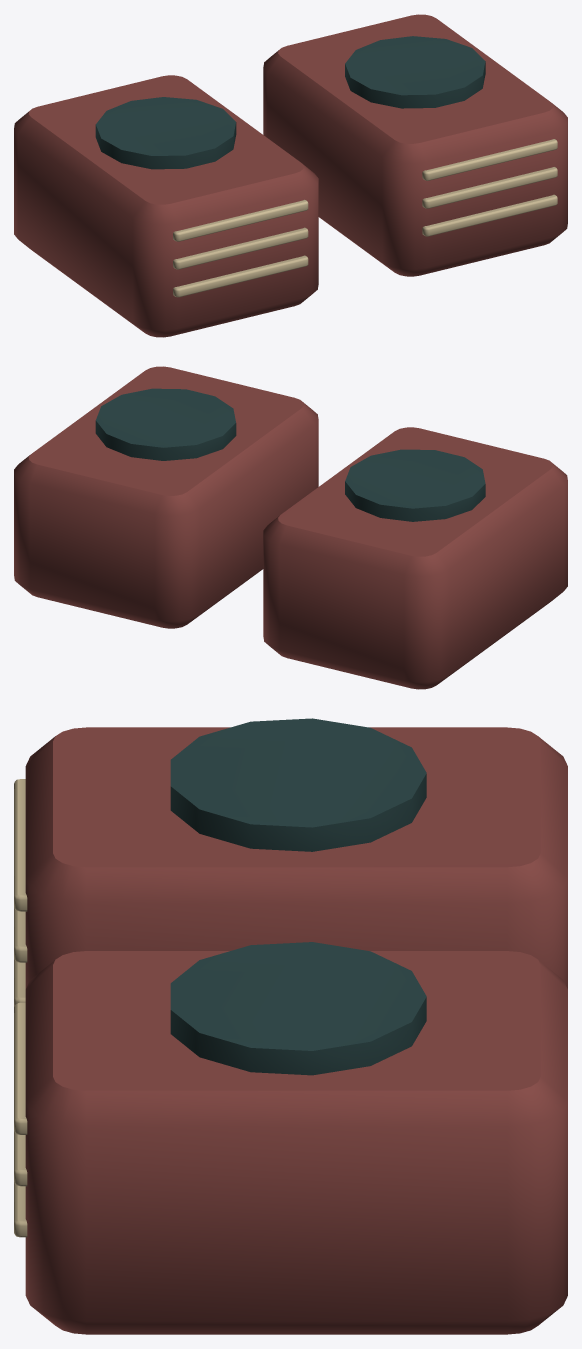
Rendered from route66_workshop_3.glb.
The picture shows the model from 3 angles, top to bottom: view 1: azimuth 30°, elevation 25°; view 2: azimuth 150°, elevation 25°; view 3: azimuth 270°, elevation 25°; orthographic projection. The views are drawn at different scales.
Visible parts, largest first — view 1: Route66Workshop3; view 2: Route66Workshop3; view 3: Route66Workshop3.
Part boxes in pixels (box(x1,y1,x2,y2)): Route66Workshop3: box(14, 14, 567, 337); Route66Workshop3: box(14, 366, 567, 689); Route66Workshop3: box(14, 718, 567, 1334).
Size of the model in its own units: 2.04 by 0.66 by 1.24.
